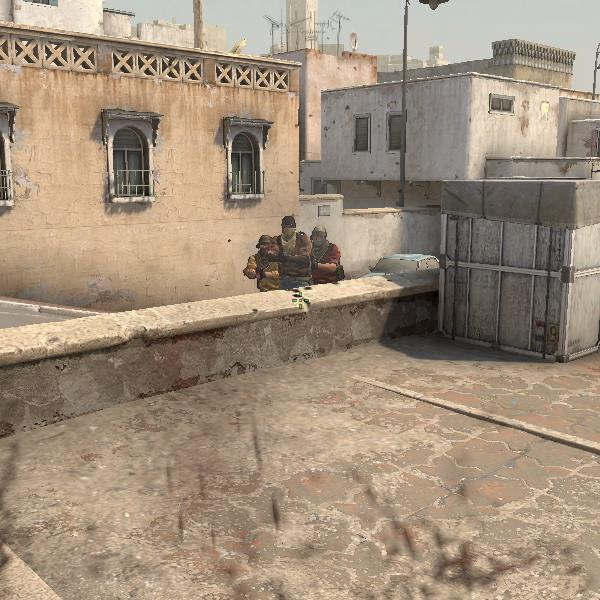t_body: (241, 229, 285, 292)
t_head: (251, 230, 279, 257)
